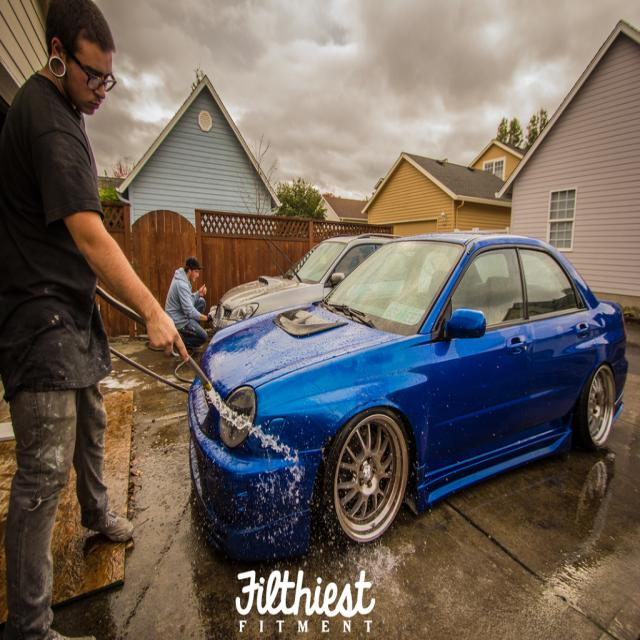car: (154, 230, 633, 557)
